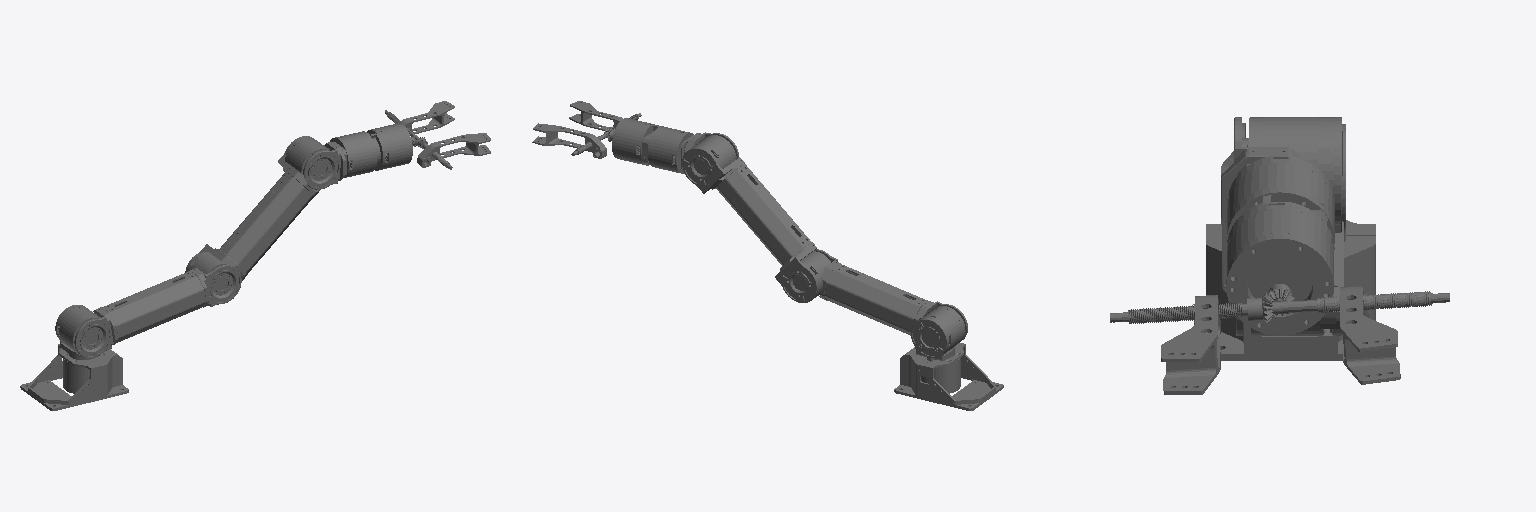
The robot description file, URDF, robot "sebot_talon":
<?xml version="1.0" encoding="utf-8" ?>
<robot name="sebot_talon">
    <link name="world" />
    <joint name="virtual_joint" type="fixed">
      <parent link="world" />
      <child link="base_link" />
    </joint>

    <link name="base_link">
        
<inertial>
            <origin xyz="0.0021259 -0.00011705 0.023382" rpy="0 0 0" />
            <mass value="0.47227" />
            <inertia ixx="0.00030812" ixy="-3.9845E-07" ixz="-4.2341E-05" iyy="0.0003688" iyz="4.9094E-07" izz="0.00052499" />
        </inertial>

        <visual>
            <origin xyz="0 0 0" rpy="0 0 0" />
            <geometry>
                <mesh filename="package://sebot_talon/meshes/base_link.STL" />
            </geometry>
            <material name="">
                <color rgba="0.48627 0.48627 0.48627 1" />

            </material>
        </visual>
        <collision>
            <origin xyz="0 0 0" rpy="0 0 0" />
            <geometry>
                <mesh filename="package://sebot_talon/meshes/base_link.STL" />
            </geometry>
        </collision>
    </link>
    <link name="Link_1">
        
<inertial>
            <origin xyz="2.6339E-05 0.0050558 0.033539" rpy="0 0 0" />
            <mass value="0.32612" />
            <inertia ixx="9.7422E-05" ixy="2.3644E-07" ixz="-6.5785E-08" iyy="0.00014278" iyz="-6.8471E-06" izz="9.1898E-05" />
        </inertial>

        <visual>
            <origin xyz="0 0 0" rpy="0 0 0" />
            <geometry>
                <mesh filename="package://sebot_talon/meshes/Link_1.STL" />
            </geometry>
            <material name="">
                <color rgba="0.48627 0.48627 0.48627 1" />
            </material>
        </visual>
        <collision>
            <origin xyz="0 0 0" rpy="0 0 0" />
            <geometry>
                <mesh filename="package://sebot_talon/meshes/Link_1.STL" />
            </geometry>
        </collision>
    </link>
    <joint name="joint_1" type="revolute">
        <origin xyz="0 0 0.049" rpy="0 0 0" />
        <parent link="base_link" />
        <child link="Link_1" />
        <axis xyz="0 0 1" />
        <limit lower="-3.1416" upper="3.1416" effort="30" velocity="1.0" />
    </joint>
    <link name="Link_2">
        
<inertial>
            <origin xyz="0.10211 0.017087 -0.0059201" rpy="0 0 0" />
            <mass value="0.1819" />
            <inertia ixx="9.2502E-05" ixy="-1.964E-05" ixz="-6.6522E-07" iyy="0.00020612" iyz="-1.0257E-07" izz="0.00021987" />
        </inertial>

        <visual>
            <origin xyz="0 0 0" rpy="0 0 0" />
            <geometry>
                <mesh filename="package://sebot_talon/meshes/Link_2.STL" />
            </geometry>
            <material name="">
                <color rgba="0.48627 0.48627 0.48627 1" />

            </material>
        </visual>
        <collision>
            <origin xyz="0 0 0" rpy="0 0 0" />
            <geometry>
                <mesh filename="package://sebot_talon/meshes/Link_2.STL" />
            </geometry>
        </collision>
    </link>
    <joint name="joint_2" type="revolute">
        <origin xyz="-0.00010967 -0.021 0.036" rpy="1.5708 0 0" />
        <parent link="Link_1" />
        <child link="Link_2" />
        <axis xyz="-0.0052225 0 0.99999" />
        <limit lower="-3.1416" upper="3.1416" effort="30" velocity="1.0" />
    </joint>
    <link name="Link_3">
        
<inertial>
            <origin xyz="0.0777 0.068515 -0.023563" rpy="0 0 0" />
            <mass value="0.76161" />
            <inertia ixx="0.00032275" ixy="-5.6404E-05" ixz="-7.4367E-07" iyy="0.00033691" iyz="-2.9457E-07" izz="0.00046514" />
        </inertial>

        <visual>
            <origin xyz="0 0 0" rpy="0 0 0" />
            <geometry>
                <mesh filename="package://sebot_talon/meshes/Link_3.STL" />
            </geometry>
            <material name="">
                <color rgba="0.48627 0.48627 0.48627 1" />

            </material>
        </visual>
        <collision>
            <origin xyz="0 0 0" rpy="0 0 0" />
            <geometry>
                <mesh filename="package://sebot_talon/meshes/Link_3.STL" />
            </geometry>
        </collision>
    </link>
    <joint name="joint_3" type="revolute">
        <origin xyz="0.20416 0.034174 0.0010662" rpy="0 0 0" />
        <parent link="Link_2" />
        <child link="Link_3" />
        <axis xyz="-0.0052225 0 0.99999" />
        <limit lower="-3.1416" upper="3.1416" effort="30" velocity="1.0" />
    </joint>
    <link name="Link_4">
        
<inertial>
            <origin xyz="0.053564 -0.0008026 -0.015318" rpy="0 0 0" />
            <mass value="0.34355" />
            <inertia ixx="0.00014263" ixy="-6.9264E-07" ixz="4.2702E-06" iyy="9.7239E-05" iyz="-1.0868E-08" izz="0.00010495" />
        </inertial>

        <visual>
            <origin xyz="0 0 0" rpy="0 0 0" />
            <geometry>
                <mesh filename="package://sebot_talon/meshes/Link_4.STL" />
            </geometry>
            <material name="">
                <color rgba="0.48627 0.48627 0.48627 1" />

            </material>
        </visual>
        <collision>
            <origin xyz="0 0 0" rpy="0 0 0" />
            <geometry>
                <mesh filename="package://sebot_talon/meshes/Link_4.STL" />
            </geometry>
        </collision>
    </link>
    <joint name="joint_4" type="revolute">
        <origin xyz="0.15515 0.13703 0.00081027" rpy="0 0 0" />
        <parent link="Link_3" />
        <child link="Link_4" />
        <axis xyz="-0.0052225 0 0.99999" />
        <limit lower="-3.1416" upper="3.1416" effort="30" velocity="1.0" />
    </joint>
    <link name="Link_5">
        
<inertial>
            <origin xyz="-4.0669E-05 -0.000426 0.029059" rpy="0 0 0" />
            <mass value="0.30904" />
            <inertia ixx="7.98E-05" ixy="-5.2929E-08" ixz="-9.0805E-08" iyy="8.0155E-05" iyz="-7.2933E-07" izz="0.00013136" />
        </inertial>

        <visual>
            <origin xyz="0 0 0" rpy="0 0 0" />
            <geometry>
                <mesh filename="package://sebot_talon/meshes/Link_5.STL" />
            </geometry>
            <material name="">
                <color rgba="0.48627 0.48627 0.48627 1" />

            </material>
        </visual>
        <collision>
            <origin xyz="0 0 0" rpy="0 0 0" />
            <geometry>
                <mesh filename="package://sebot_talon/meshes/Link_5.STL" />
            </geometry>
        </collision>
    </link>
    <joint name="joint_5" type="revolute">
        <origin xyz="0.085584 -0.0012382 -0.017553" rpy="0 1.5708 0" />
        <parent link="Link_4" />
        <child link="Link_5" />
        <axis xyz="-0.0052219 -0.014482 0.99988" />
        <limit lower="-3.1416" upper="3.1416" effort="30" velocity="1.0" />
    </joint>
    <link name="Link_6">
        
<inertial>
            <origin xyz="-0.0012827 -0.00042226 0.022836" rpy="0 0 0" />
            <mass value="0.070496" />
            <inertia ixx="8.8029E-07" ixy="-1.8984E-06" ixz="-1.6602E-07" iyy="2.8204E-05" iyz="-1.1171E-08" izz="2.8328E-05" />
        </inertial>

        <visual>
            <origin xyz="0 0 0" rpy="0 0 0" />
            <geometry>
                <mesh filename="package://sebot_talon/meshes/Link_6.STL" />
            </geometry>
            <material name="">
                <color rgba="0.48627 0.48627 0.48627 1" />

            </material>
        </visual>
        <collision>
            <origin xyz="0 0 0" rpy="0 0 0" />
            <geometry>
                <mesh filename="package://sebot_talon/meshes/Link_6.STL" />
            </geometry>
        </collision>
    </link>
    <joint name="joint_6" type="revolute">
        <origin xyz="-0.00029243 -0.00081097 0.055993" rpy="0 0 0" />
        <parent link="Link_5" />
        <child link="Link_6" />
        <axis xyz="-0.0052219 -0.014482 0.99988" />
        <limit lower="-3.1416" upper="3.1416" effort="30" velocity="1.0" />
    </joint>
    <link name="Link_7">
        
<inertial>
            <origin xyz="0.026419 0.0019054 -0.0095199" rpy="0 0 0" />
            <mass value="0.031246" />
            <inertia ixx="3.6107E-06" ixy="2.077E-06" ixz="4.1415E-06" iyy="3.337E-05" iyz="-2.4464E-07" izz="3.3894E-05" />
        </inertial>

        <visual>
            <origin xyz="0 0 0" rpy="0 0 0" />
            <geometry>
                <mesh filename="package://sebot_talon/meshes/Link_7.STL" />
            </geometry>
            <material name="">
                <color rgba="0.48627 0.48627 0.48627 1" />

            </material>
        </visual>
        <collision>
            <origin xyz="0 0 0" rpy="0 0 0" />
            <geometry>
                <mesh filename="package://sebot_talon/meshes/Link_7.STL" />
            </geometry>
        </collision>
    </link>
    <joint name="joint_7" type="prismatic">
        <origin xyz="-0.032415 -0.0025901 0.023796" rpy="3.1416 -1.5708 0" />
        <parent link="Link_6" />
        <child link="Link_7" />
        <axis xyz="-0.0062133 -0.069281 0.99758" />
        <limit lower="0.00" upper="0.03" effort="30" velocity="1.0" />
    </joint>
    <link name="Link_8">
        
<inertial>
            <origin xyz="0.026297 0.00054845 0.010019" rpy="0 0 0" />
            <mass value="0.031246" />
            <inertia ixx="3.7145E-06" ixy="2.6528E-06" ixz="-4.1893E-06" iyy="3.3309E-05" iyz="1.9977E-07" izz="3.3852E-05" />
        </inertial>

        <visual>
            <origin xyz="0 0 0" rpy="0 0 0" />
            <geometry>
                <mesh filename="package://sebot_talon/meshes/Link_8.STL" />
            </geometry>
            <material name="">
                <color rgba="0.48627 0.48627 0.48627 1" />

            </material>
        </visual>
        <collision>
            <origin xyz="0 0 0" rpy="0 0 0" />
            <geometry>
                <mesh filename="package://sebot_talon/meshes/Link_8.STL" />
            </geometry>
        </collision>
    </link>
    <joint name="joint_8" type="prismatic">
        <origin xyz="0.032165 0.001895 0.024198" rpy="3.1416 -1.5708 0" />
        <parent link="Link_6" />
        <child link="Link_8" />
        <axis xyz="-0.0062133 -0.069281 0.99758" />
        <limit lower="-0.03" upper="0.0" effort="30" velocity="1.0" />
    </joint>
    
<transmission name="trans_joint_1">
        <type>transmission_interface/SimpleTransmission</type>
        <joint name="joint_1">
            <hardwareInterface>hardware_interface/PositionJointInterface</hardwareInterface>
        </joint>
        <actuator name="joint_1_motor">
            <hardwareInterface>hardware_interface/PositionJointInterface</hardwareInterface>
            <mechanicalReduction>1</mechanicalReduction>
        </actuator>
    </transmission>
    <transmission name="trans_joint_2">
        <type>transmission_interface/SimpleTransmission</type>
        <joint name="joint_2">
            <hardwareInterface>hardware_interface/PositionJointInterface</hardwareInterface>
        </joint>
        <actuator name="joint_2_motor">
            <hardwareInterface>hardware_interface/PositionJointInterface</hardwareInterface>
            <mechanicalReduction>1</mechanicalReduction>
        </actuator>
    </transmission>
    <transmission name="trans_joint_3">
        <type>transmission_interface/SimpleTransmission</type>
        <joint name="joint_3">
            <hardwareInterface>hardware_interface/PositionJointInterface</hardwareInterface>
        </joint>
        <actuator name="joint_3_motor">
            <hardwareInterface>hardware_interface/PositionJointInterface</hardwareInterface>
            <mechanicalReduction>1</mechanicalReduction>
        </actuator>
    </transmission>
    <transmission name="trans_joint_4">
        <type>transmission_interface/SimpleTransmission</type>
        <joint name="joint_4">
            <hardwareInterface>hardware_interface/PositionJointInterface</hardwareInterface>
        </joint>
        <actuator name="joint_4_motor">
            <hardwareInterface>hardware_interface/PositionJointInterface</hardwareInterface>
            <mechanicalReduction>1</mechanicalReduction>
        </actuator>
    </transmission>
    <transmission name="trans_joint_5">
        <type>transmission_interface/SimpleTransmission</type>
        <joint name="joint_5">
            <hardwareInterface>hardware_interface/PositionJointInterface</hardwareInterface>
        </joint>
        <actuator name="joint_5_motor">
            <hardwareInterface>hardware_interface/PositionJointInterface</hardwareInterface>
            <mechanicalReduction>1</mechanicalReduction>
        </actuator>
    </transmission>
    <transmission name="trans_joint_6">
        <type>transmission_interface/SimpleTransmission</type>
        <joint name="joint_6">
            <hardwareInterface>hardware_interface/PositionJointInterface</hardwareInterface>
        </joint>
        <actuator name="joint_6_motor">
            <hardwareInterface>hardware_interface/PositionJointInterface</hardwareInterface>
            <mechanicalReduction>1</mechanicalReduction>
        </actuator>
    </transmission>
    <transmission name="trans_joint_7">
        <type>transmission_interface/SimpleTransmission</type>
        <joint name="joint_7">
            <hardwareInterface>hardware_interface/PositionJointInterface</hardwareInterface>
        </joint>
        <actuator name="joint_7_motor">
            <hardwareInterface>hardware_interface/PositionJointInterface</hardwareInterface>
            <mechanicalReduction>1</mechanicalReduction>
        </actuator>
    </transmission>
    <transmission name="trans_joint_8">
        <type>transmission_interface/SimpleTransmission</type>
        <joint name="joint_8">
            <hardwareInterface>hardware_interface/PositionJointInterface</hardwareInterface>
        </joint>
        <actuator name="joint_8_motor">
            <hardwareInterface>hardware_interface/PositionJointInterface</hardwareInterface>
            <mechanicalReduction>1</mechanicalReduction>
        </actuator>
    </transmission>
    <gazebo>
        <plugin name="gazebo_ros_control" filename="libgazebo_ros_control.so">
            <robotNamespace>/</robotNamespace>
        </plugin>
    </gazebo>
</robot>

--- What the picture shows (computed from the rendered views, not written in the file) ---
The picture shows the robot from 3 angles, left to right: view 1: azimuth 30°, elevation 25°; view 2: azimuth 150°, elevation 25°; view 3: azimuth 270°, elevation 25°; orthographic projection.
Robot: sebot_talon — 10 links, 9 joints (6 revolute, 2 prismatic, 1 fixed); root link world; default pose: every joint at zero.
Links seen in each view (by area): view 1: Link_2, Link_3, base_link, Link_4, Link_5, Link_1, Link_7, Link_8; view 2: Link_3, Link_2, base_link, Link_1, Link_4, Link_5, Link_8, Link_7; view 3: Link_5, base_link, Link_4, Link_3, Link_6, Link_7, Link_8.
Link boxes in pixels (x1,y1,x2,y2): Link_2: (74,265,241,357); Link_3: (185,136,329,280); base_link: (20,344,128,410); Link_4: (303,131,376,189); Link_5: (367,123,412,170); Link_1: (55,305,99,359); Link_7: (417,133,490,167); Link_8: (400,101,454,133); Link_3: (682,135,830,302); Link_2: (814,249,967,339); base_link: (894,343,1003,410); Link_1: (911,306,964,360); Link_4: (648,126,738,173); Link_5: (612,118,659,165); Link_8: (532,123,606,158); Link_7: (569,101,622,130); Link_5: (1226,195,1334,335); base_link: (1206,220,1375,360); Link_4: (1221,117,1334,243); Link_3: (1221,117,1343,335); Link_6: (1110,284,1449,323); Link_7: (1161,295,1220,394); Link_8: (1340,286,1400,384).
Bounding box of the posed robot: 0.6835 × 0.1799 × 0.2847 m (x, y, z).
Meshes: 9 distinct files referenced, 9 mesh visuals loaded (9 binary STL).
